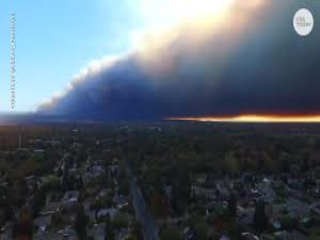smoke: (26, 25, 301, 113)
